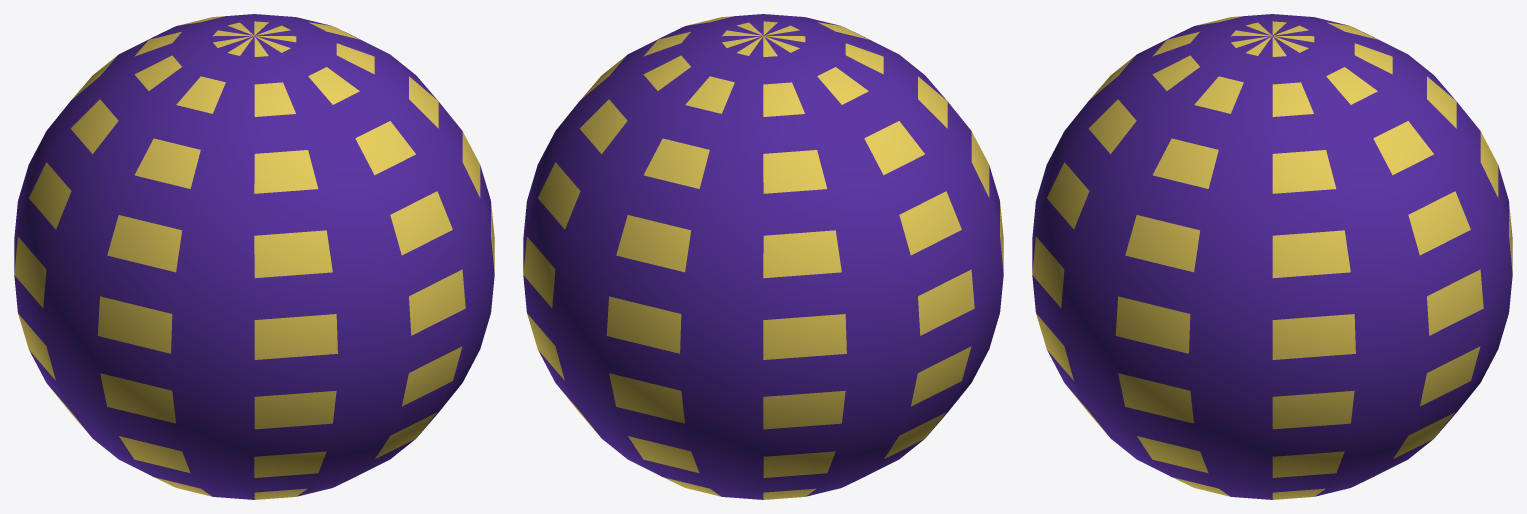
File: lopta1.fbx
3 views of the same model, side by side, from view 1: azimuth 30°, elevation 25°; view 2: azimuth 150°, elevation 25°; view 3: azimuth 270°, elevation 25° (orthographic).
Visible parts, largest first — view 1: lopta; view 2: lopta; view 3: lopta.
Boxes of the visible parts, <box> form: lopta: <box>14,14,494,499</box>; lopta: <box>523,14,1003,499</box>; lopta: <box>1032,14,1512,499</box>.
Bounding box in the file's own units: 47.65 × 47.65 × 46.93.
